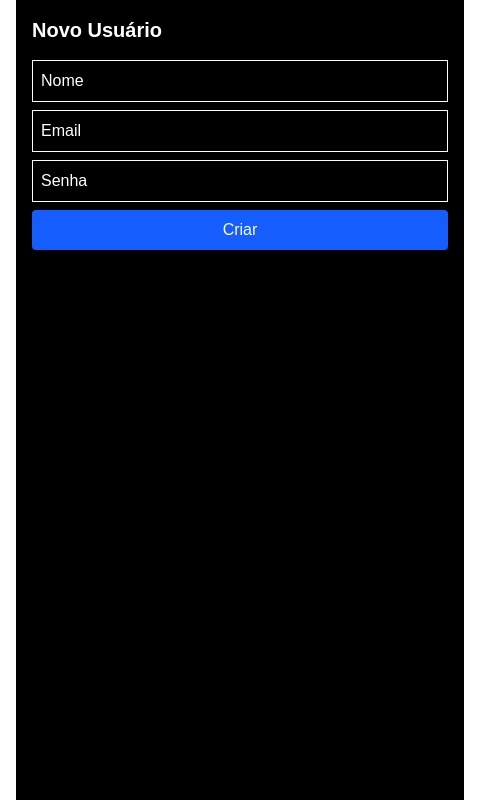
Test: NewUserPage › valida senha menor que 6 caracteres
Type "Fulano" into the field with placeholder "Nome" at (240, 81), box [32,60,448,102]
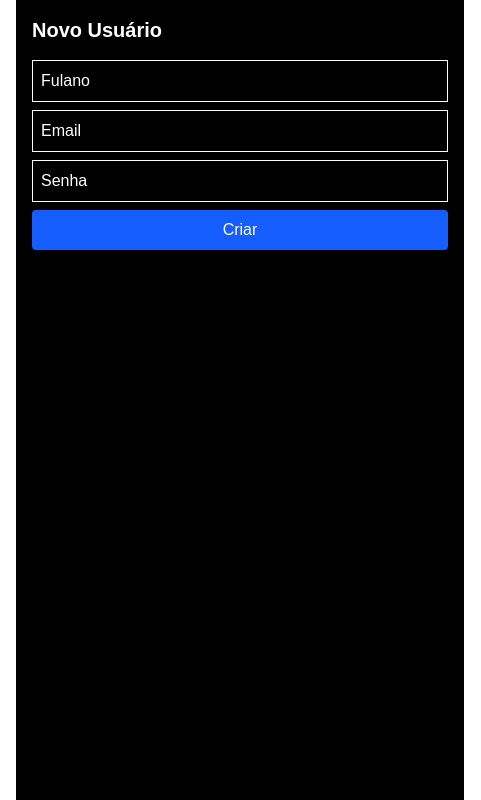
Type "fulano@email.com" into the field with placeholder "Email" at (240, 131), box [32,110,448,152]
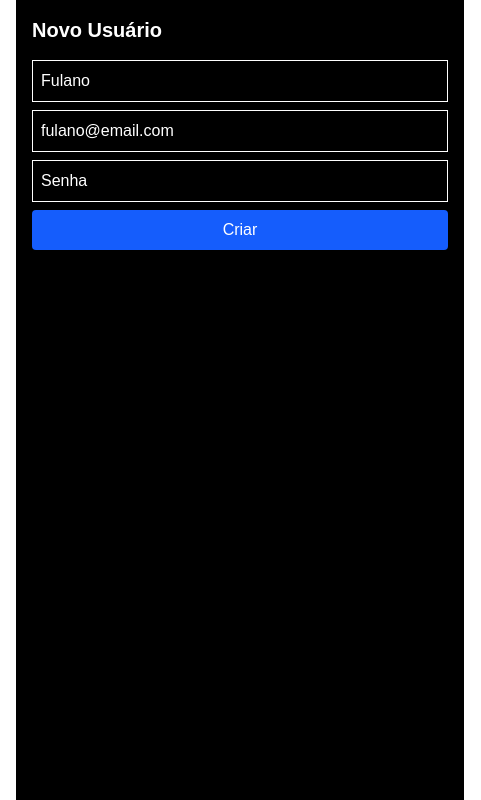
Type "123" into the password field with placeholder "Senha" at (240, 181), box [32,160,448,202]
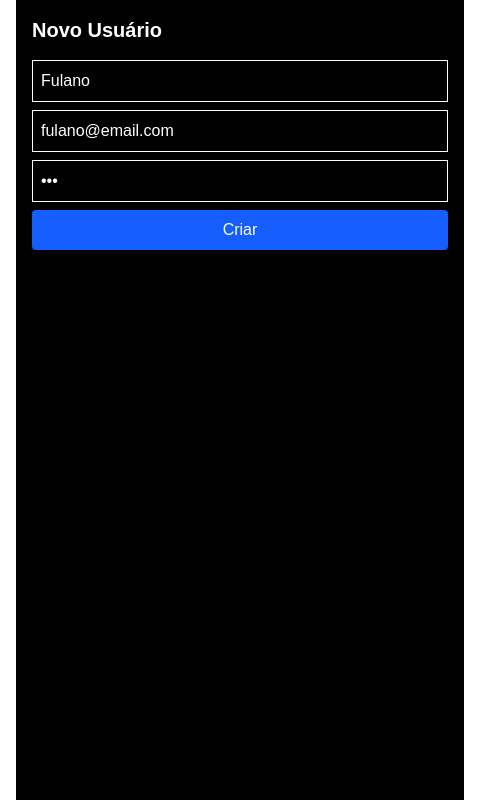
Click the button "Criar" at (240, 230), box [32,210,448,250]
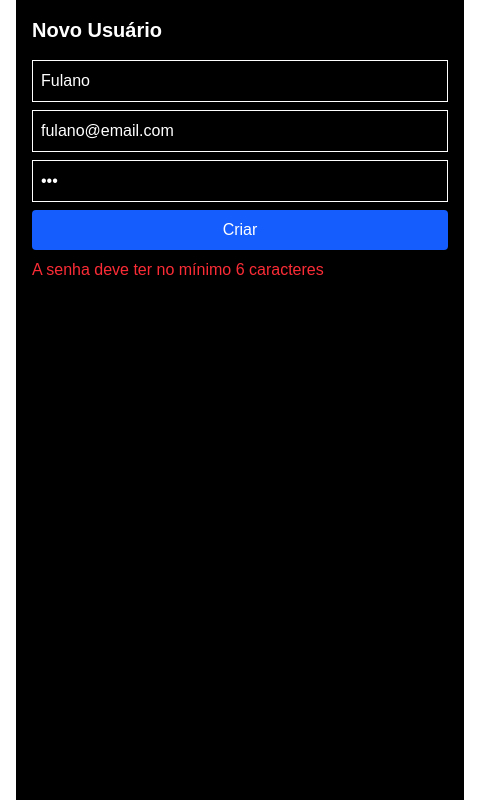
Expected: the text "A senha deve ter no mínimo 6 caracteres" is shown, [32,261,324,278]
